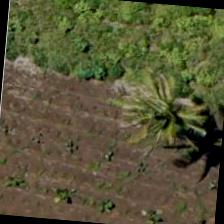Kelapa_Sawit: (127, 66, 223, 165)
